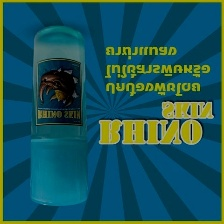insecticide: (23, 20, 94, 207)
